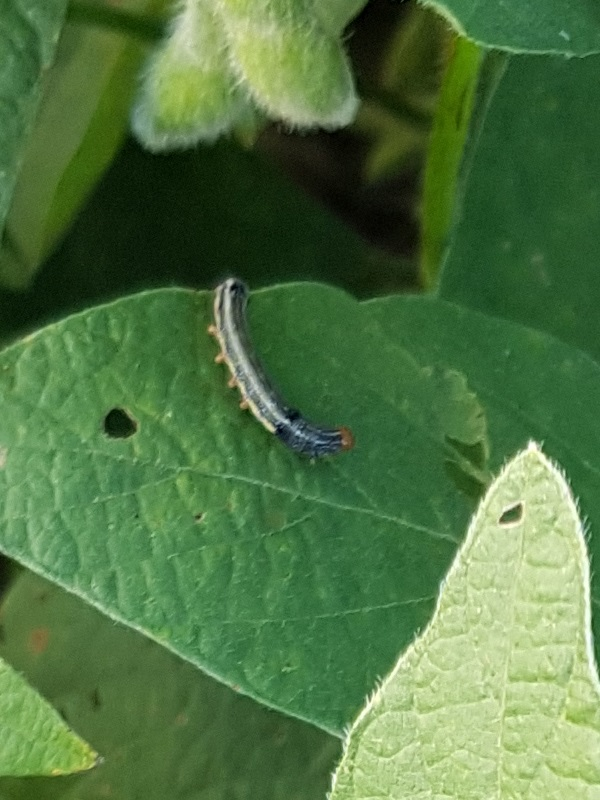Spodoptera_albula: (190, 265, 376, 474)
